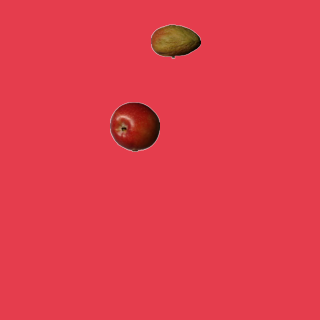Apple Braeburn: (109, 101, 159, 151)
Papaya: (150, 16, 200, 66)
